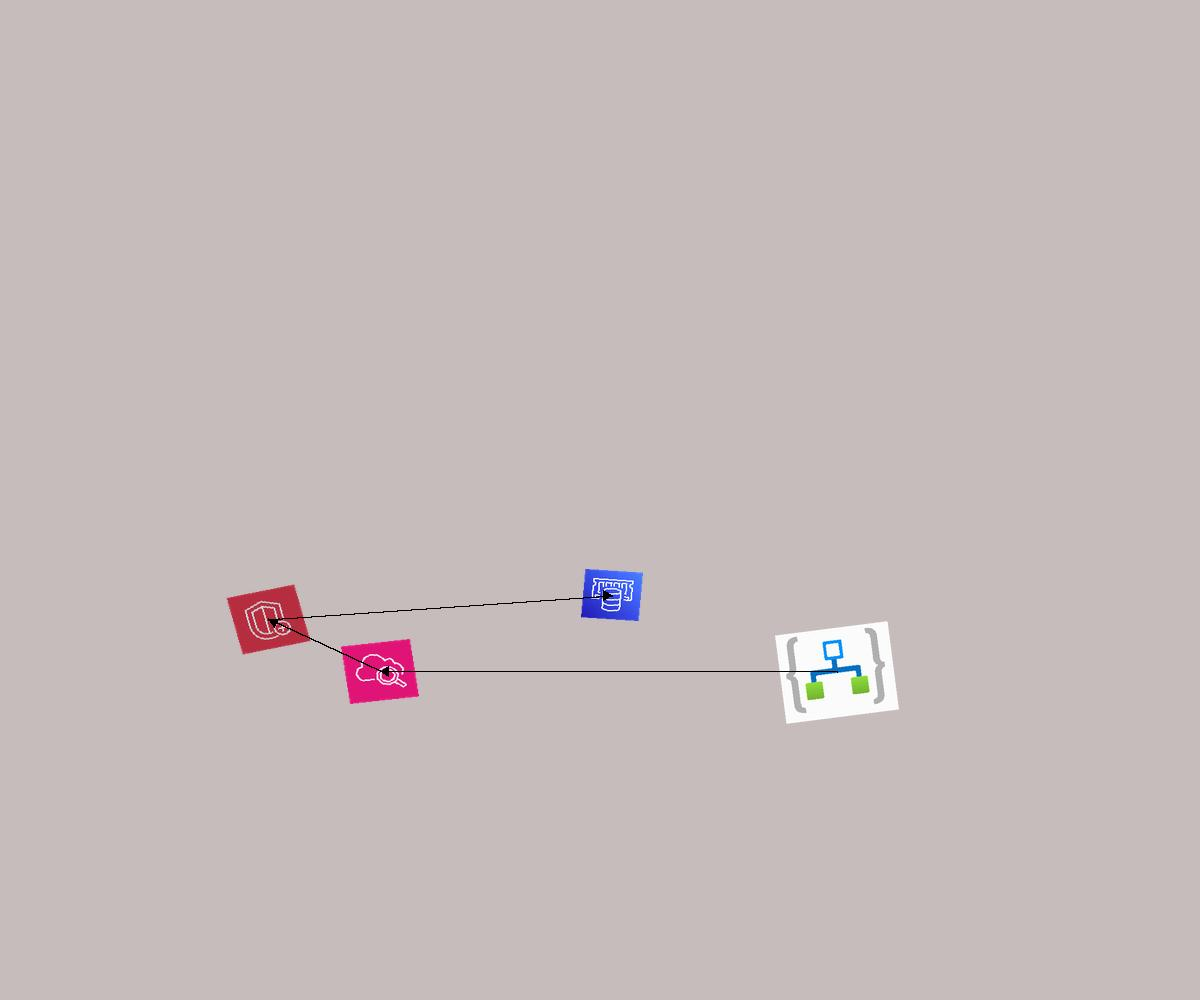AWS-CloudWatch: (341, 639, 419, 704)
AWS-ElastiCache: (581, 569, 643, 621)
AWS-Shield: (226, 584, 311, 655)
Azure_integration-204-Logic-Apps: (775, 621, 899, 724)
